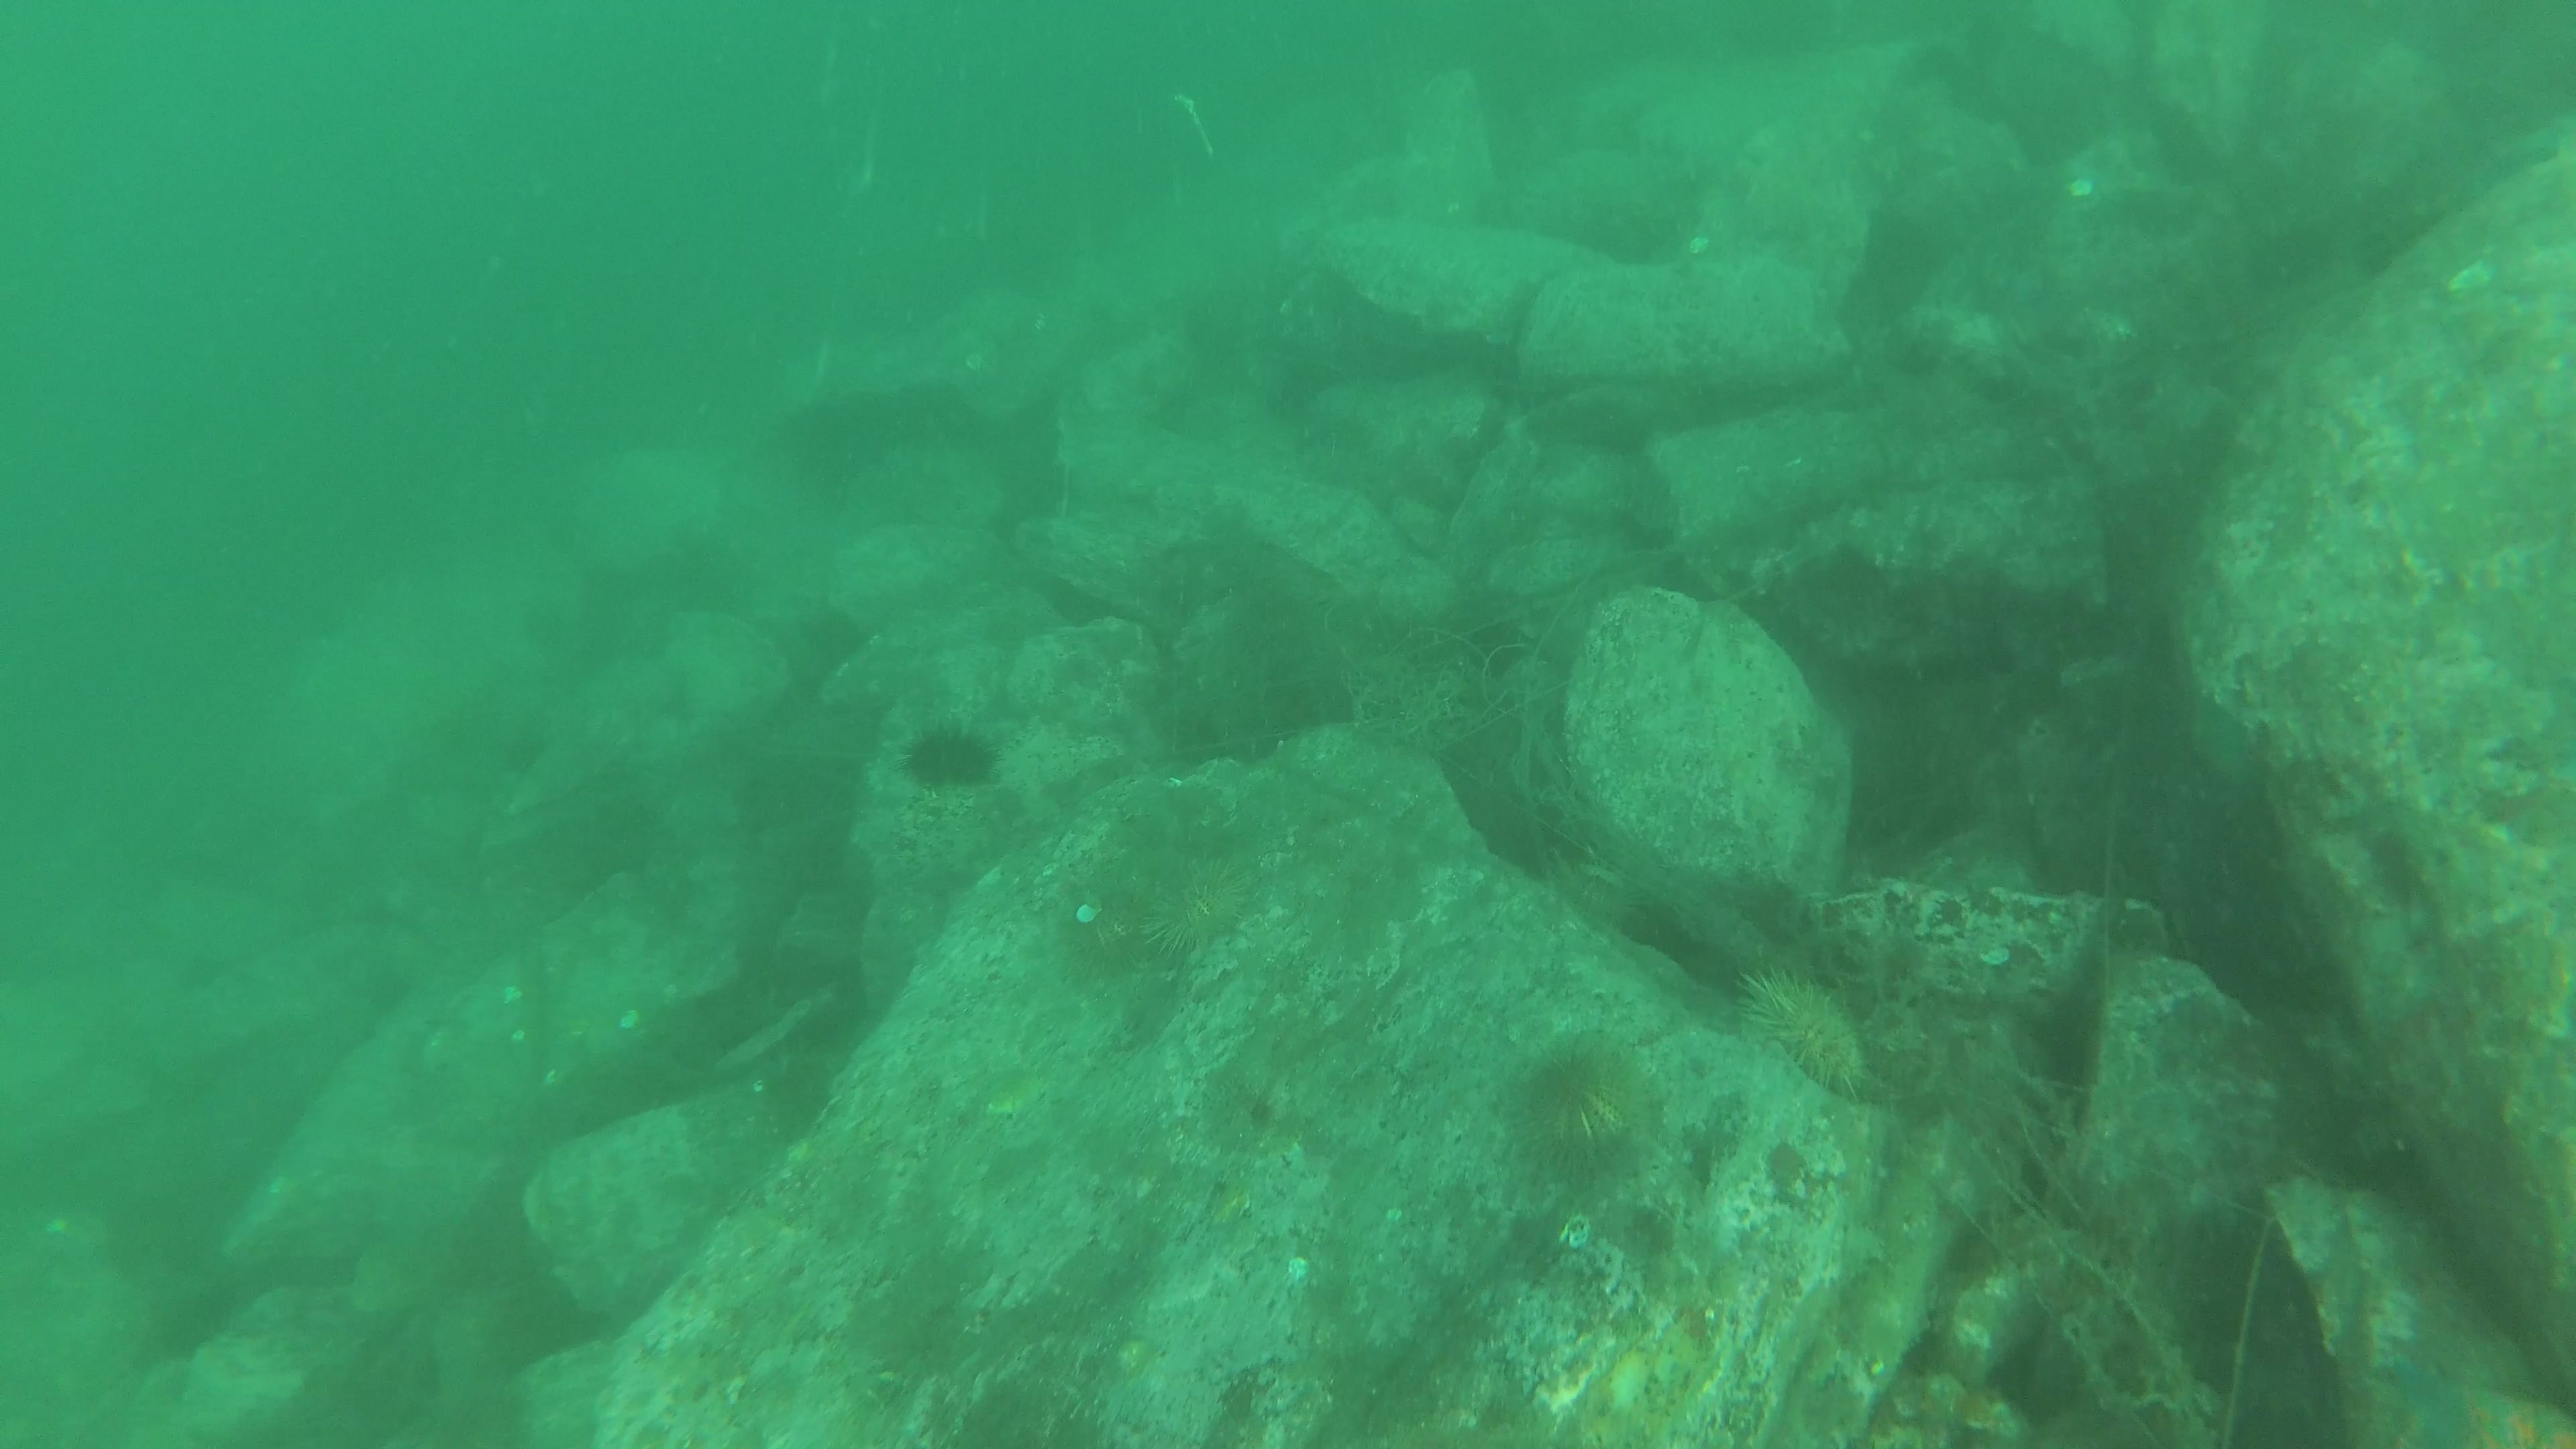echinus: (1497, 1026, 1647, 1169), (1732, 957, 1879, 1100), (1157, 830, 1256, 966), (1060, 858, 1157, 978), (899, 715, 1010, 801)
starfish: (2376, 1343, 2576, 1449)
